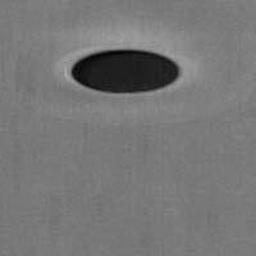Punching: (72, 49, 180, 95)
